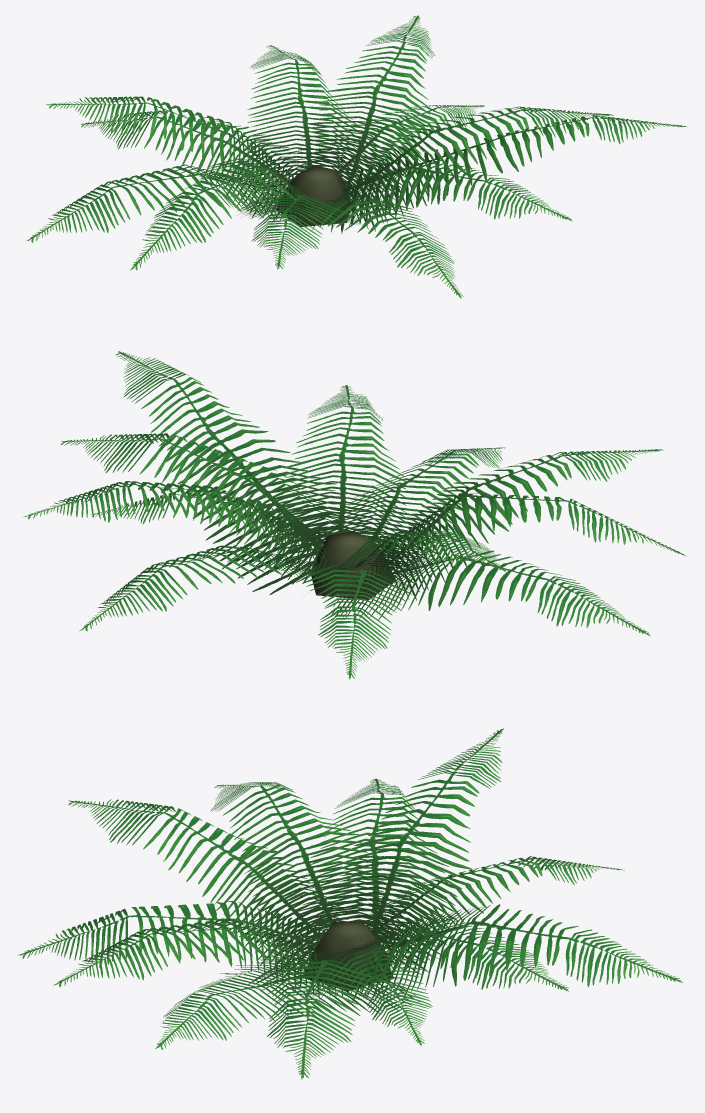
File: Bush_02.fbx
The picture shows the model from 3 angles, top to bottom: view 1: azimuth 30°, elevation 25°; view 2: azimuth 150°, elevation 25°; view 3: azimuth 270°, elevation 25°; orthographic projection. The views are drawn at different scales.
Parts seen in each view (by area): view 1: pPlane14; view 2: pPlane14; view 3: pPlane14.
Part boxes in pixels (bbox=[...]): pPlane14: bbox=[26, 15, 687, 298]; pPlane14: bbox=[23, 351, 686, 679]; pPlane14: bbox=[18, 728, 682, 1079].
Size of the model in its own units: 19 by 3.84 by 16.44.
1 material, 1 textured.
